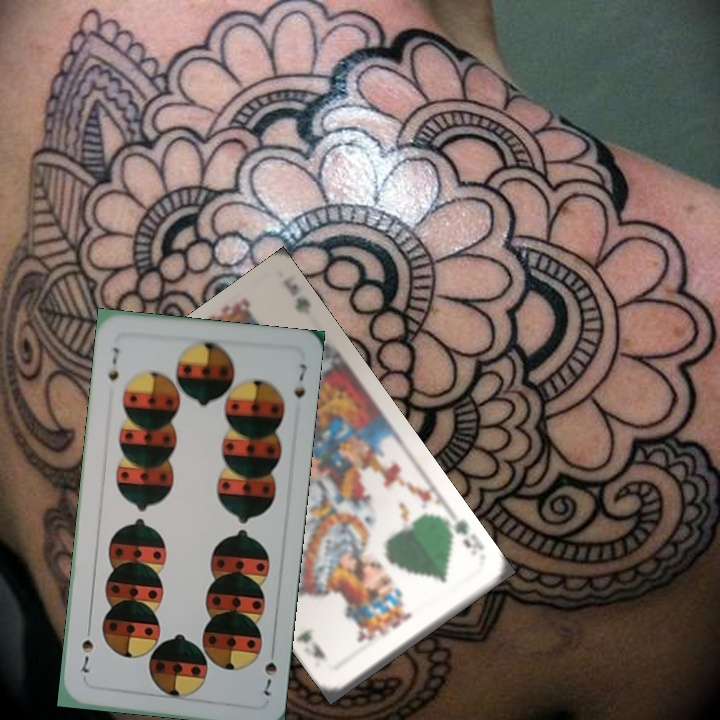GK: (443, 515, 487, 553)
S7: (259, 642, 280, 699), (104, 343, 122, 385)
